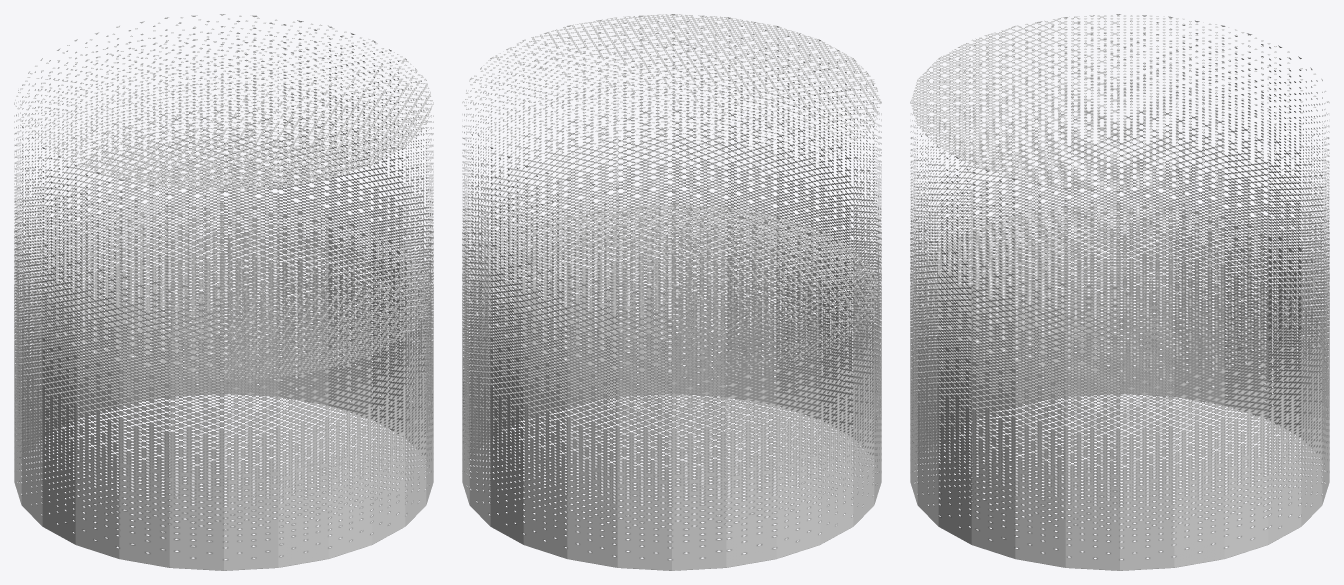
The model's file is jump2.obj.
3 views of the same model, side by side, from view 1: azimuth 30°, elevation 25°; view 2: azimuth 150°, elevation 25°; view 3: azimuth 270°, elevation 25° (orthographic).
Parts seen in each view (by area): view 1: entity0_brush1, entity0_brush0; view 2: entity0_brush1, entity0_brush0; view 3: entity0_brush1, entity0_brush0.
Part boxes in pixels (box(x1,y1,x2,y2)): entity0_brush1: box(14, 204, 433, 570); entity0_brush0: box(14, 14, 433, 380); entity0_brush1: box(462, 204, 881, 570); entity0_brush0: box(462, 14, 881, 380); entity0_brush1: box(910, 204, 1329, 570); entity0_brush0: box(910, 14, 1329, 380).
Size of the model in its own units: 128 by 128 by 128.
1 material, 1 textured.
